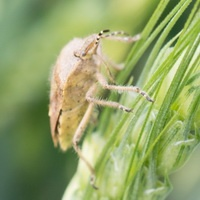insect: (49, 30, 153, 188)
